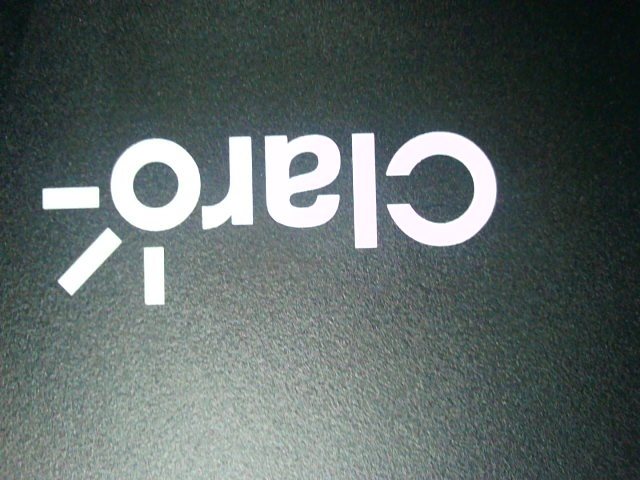BC_Claor: (41, 119, 504, 313)
